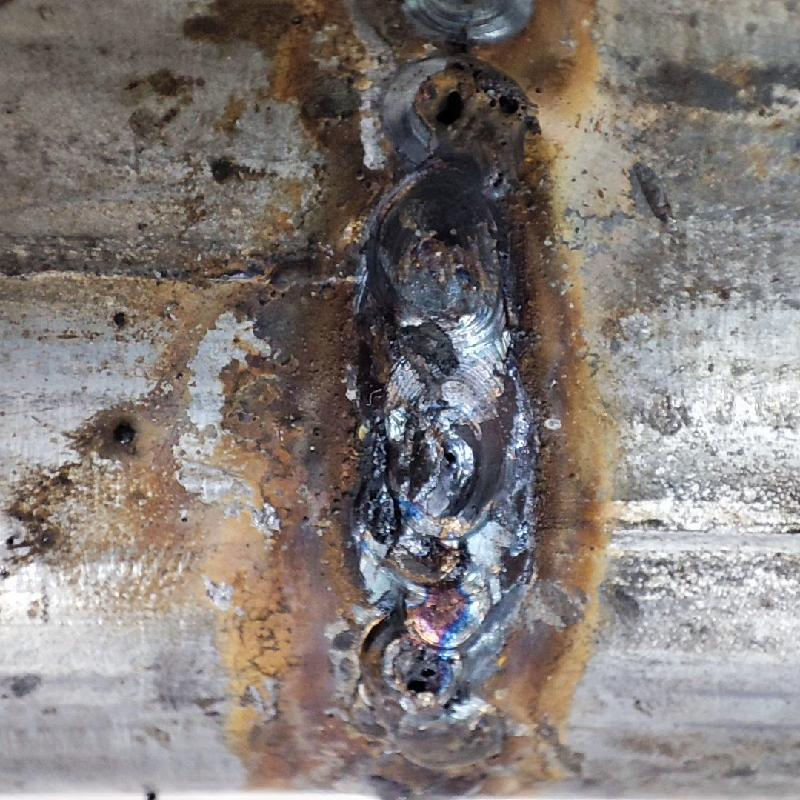Surface_pores: (428, 64, 523, 135), (396, 660, 452, 705)
